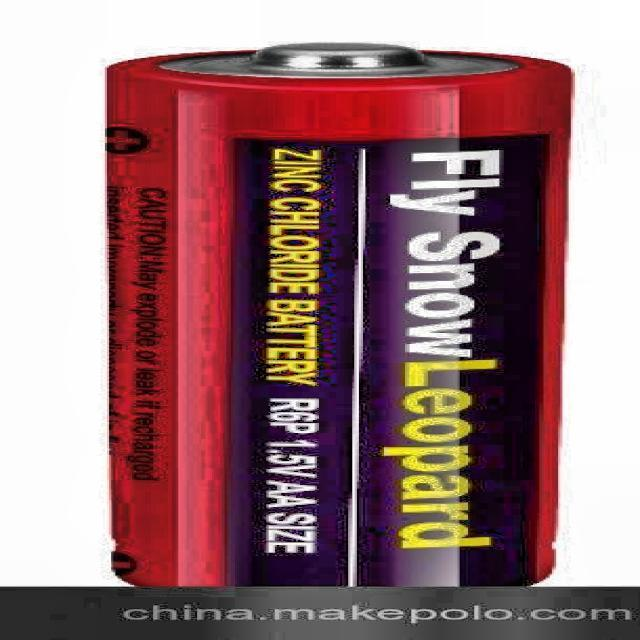battery: (108, 42, 570, 586)
